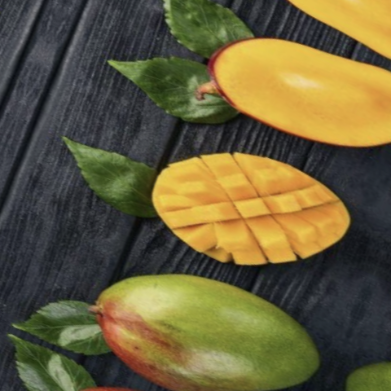mango: (133, 117, 391, 321), (62, 228, 347, 391), (178, 0, 391, 192)
